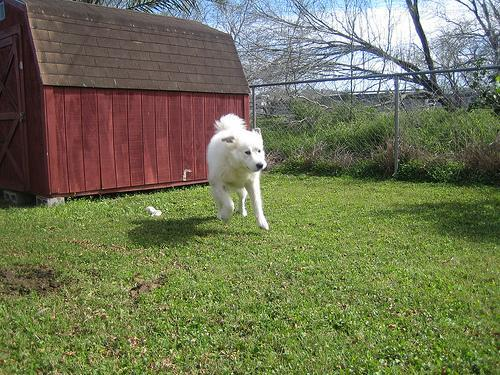Great_Pyrenees: (204, 111, 276, 238)
